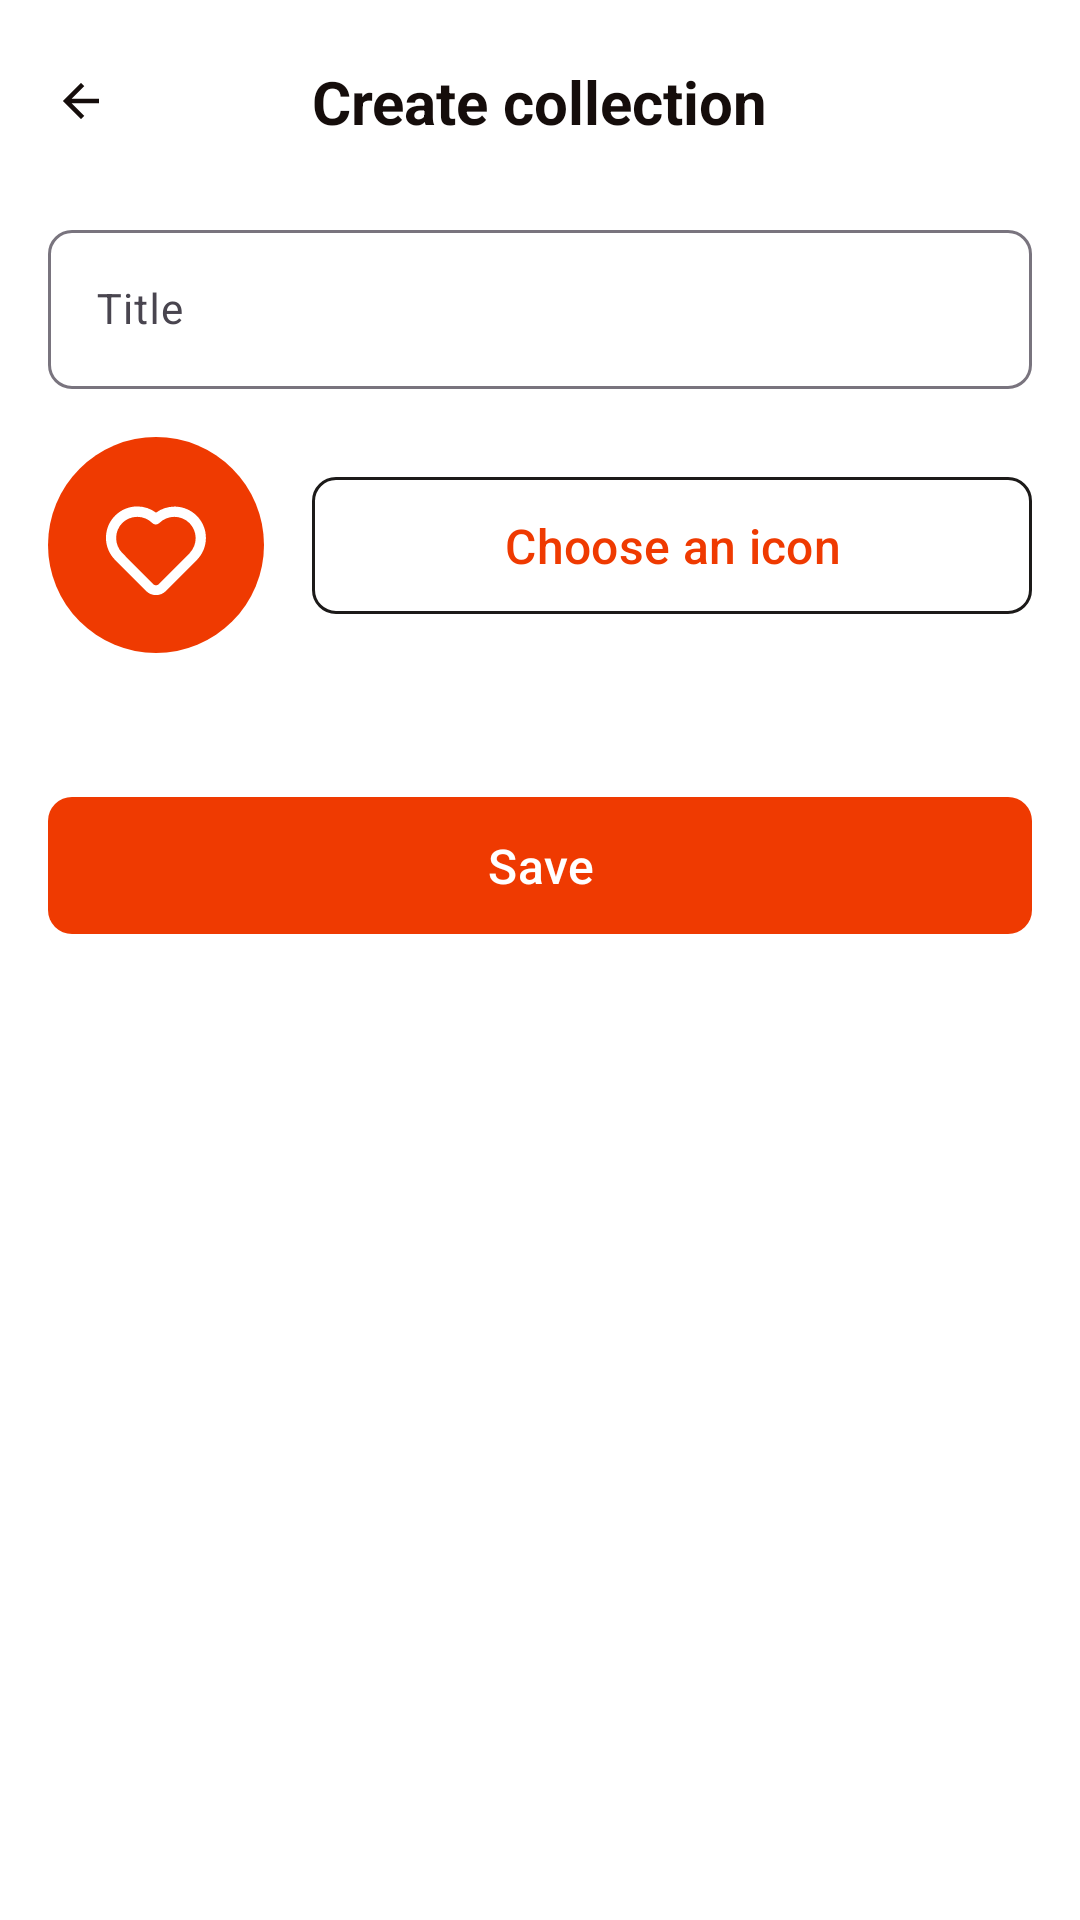

Screen size 1080 x 1920. Icon name, then its center in pixels as [x,y]:
back: [81,101]
